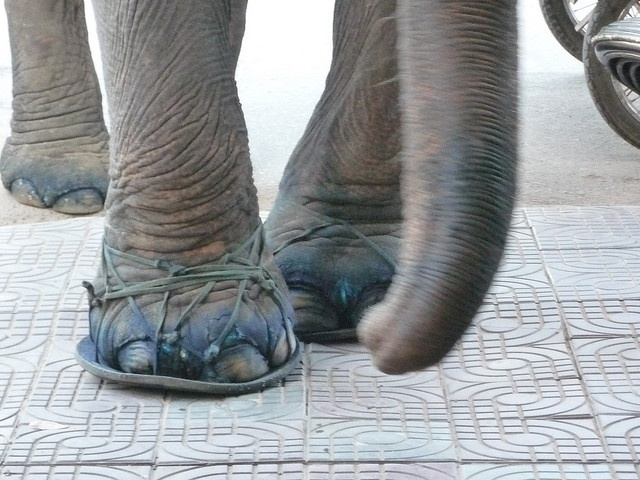elephant: (1, 0, 521, 387)
